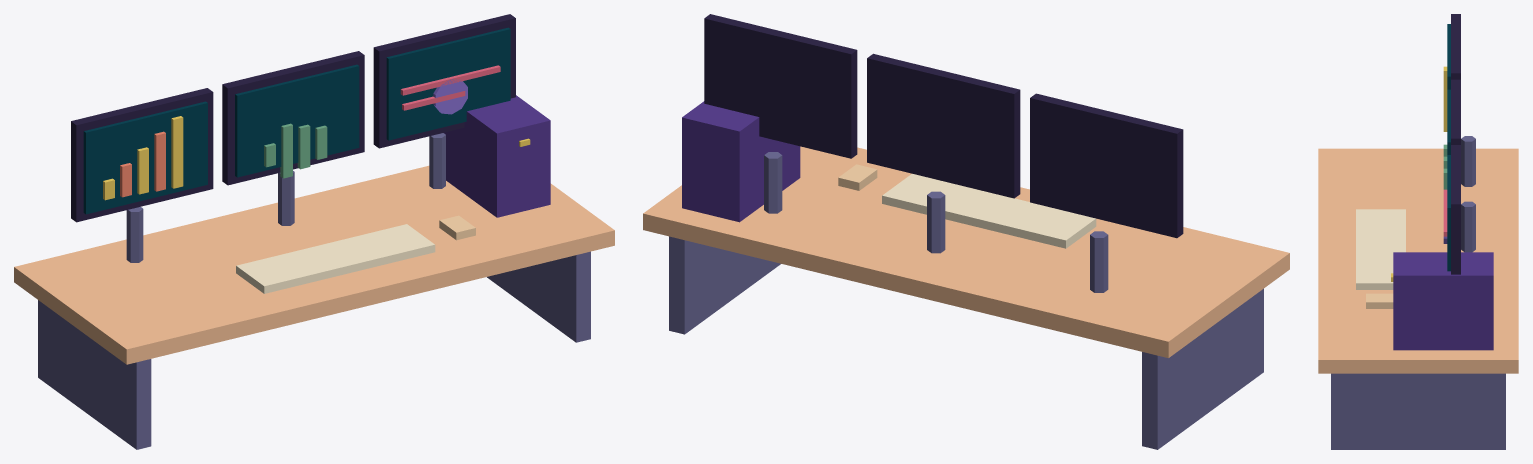
The model's file is supervision.glb.
3 renders of one model, left to right at view 1: azimuth 30°, elevation 25°; view 2: azimuth 150°, elevation 25°; view 3: azimuth 270°, elevation 25°, orthographic. The views are drawn at different scales.
Visible parts, largest first — view 1: supervision_sand, supervision_teal, supervision_steel, supervision_dark, supervision_indigo, supervision_cream, supervision_sage, supervision_yellow, supervision_rose, supervision_coral, supervision_violet, supervision_peach; view 2: supervision_sand, supervision_dark, supervision_steel, supervision_indigo, supervision_cream, supervision_peach; view 3: supervision_sand, supervision_steel, supervision_indigo, supervision_cream, supervision_dark, supervision_teal, supervision_peach, supervision_yellow, supervision_rose, supervision_sage.
Part boxes in pixels (left/top/right/bottom): supervision_sand: left=14, top=165, right=614, bottom=364; supervision_teal: left=83, top=27, right=510, bottom=214; supervision_steel: left=38, top=133, right=590, bottom=449; supervision_dark: left=71, top=14, right=515, bottom=222; supervision_indigo: left=444, top=95, right=550, bottom=217; supervision_cream: left=236, top=224, right=435, bottom=293; supervision_sage: left=264, top=123, right=327, bottom=178; supervision_yellow: left=103, top=116, right=530, bottom=200; supervision_rose: left=400, top=65, right=500, bottom=110; supervision_coral: left=120, top=131, right=165, bottom=197; supervision_violet: left=433, top=79, right=467, bottom=114; supervision_peach: left=439, top=215, right=475, bottom=240; supervision_sand: left=643, top=146, right=1289, bottom=358; supervision_dark: left=704, top=14, right=1183, bottom=238; supervision_steel: left=669, top=152, right=1263, bottom=449; supervision_indigo: left=682, top=101, right=800, bottom=222; supervision_cream: left=882, top=173, right=1096, bottom=248; supervision_peach: left=838, top=164, right=877, bottom=190; supervision_sand: left=1318, top=148, right=1518, bottom=373; supervision_steel: left=1331, top=136, right=1505, bottom=449; supervision_indigo: left=1393, top=252, right=1493, bottom=350; supervision_cream: left=1356, top=209, right=1405, bottom=289; supervision_dark: left=1451, top=14, right=1460, bottom=274; supervision_teal: left=1447, top=24, right=1450, bottom=271; supervision_peach: left=1366, top=293, right=1393, bottom=308; supervision_yellow: left=1391, top=66, right=1447, bottom=281; supervision_rose: left=1443, top=189, right=1447, bottom=236; supervision_sage: left=1443, top=144, right=1447, bottom=189.
Bounding box in the file's own units: 2 × 1.07 × 0.8.
